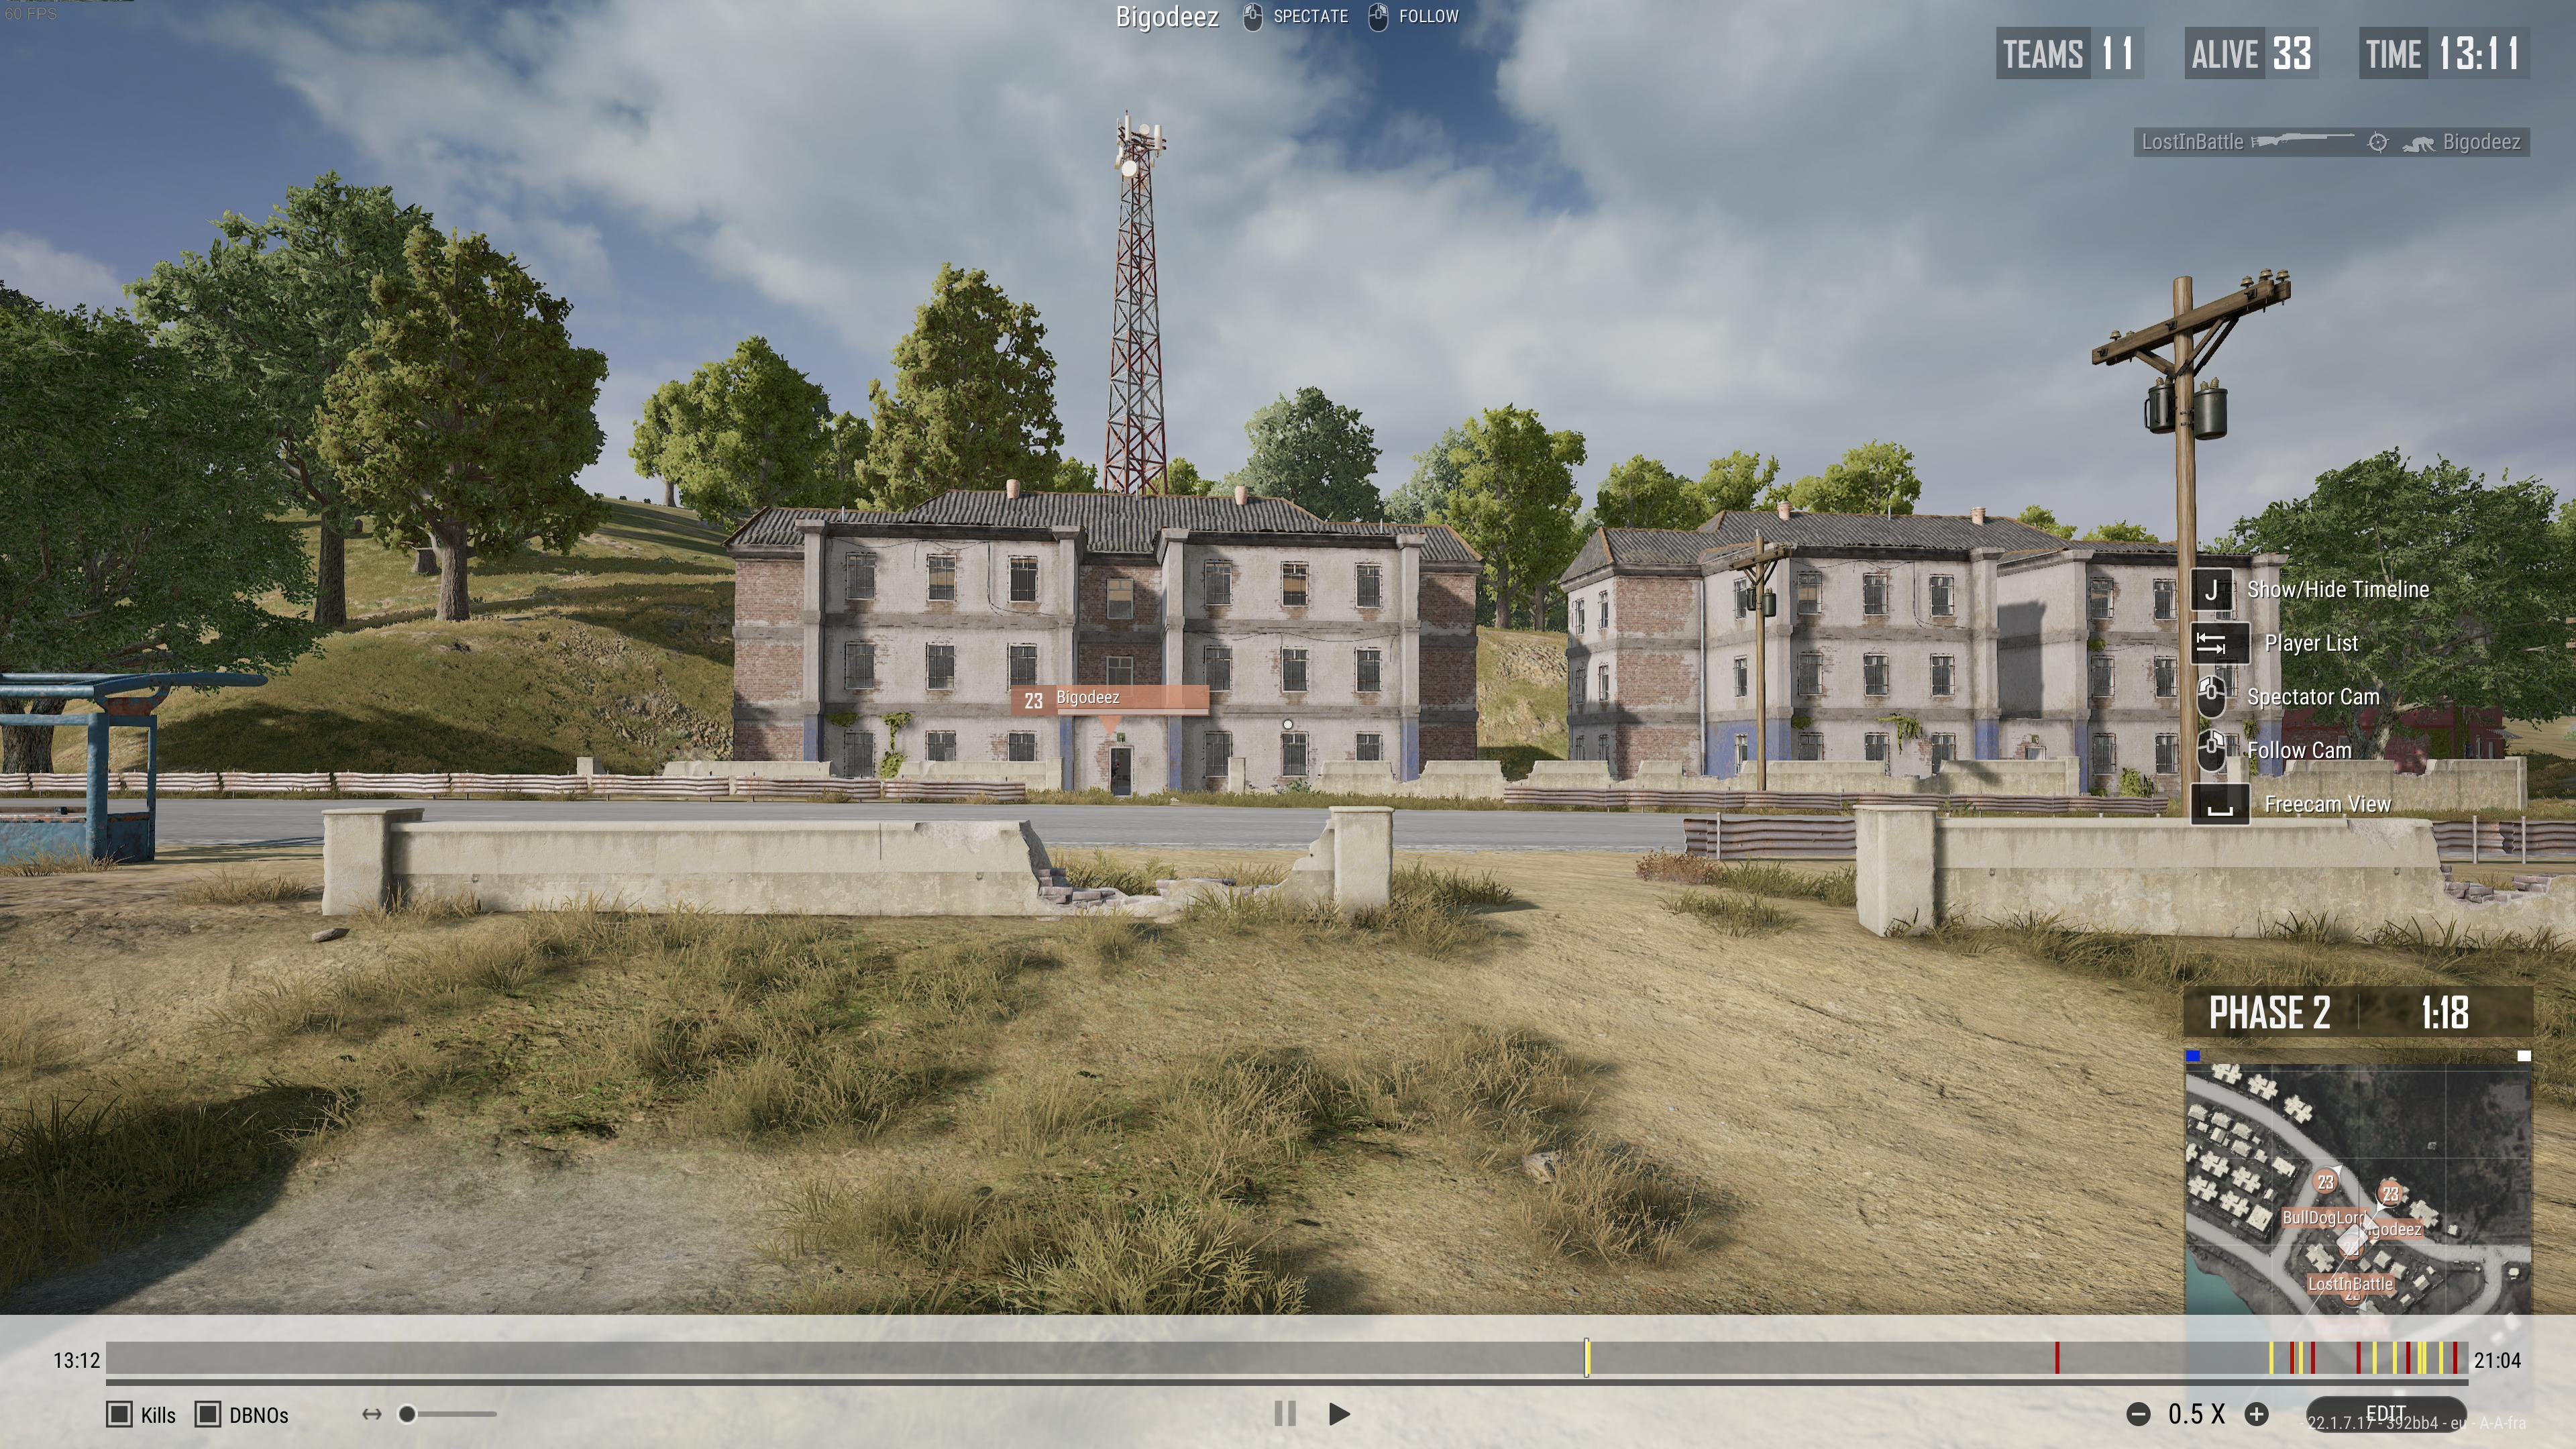enemy: (1111, 757, 1120, 791)
enemy_head: (1113, 757, 1118, 764)
